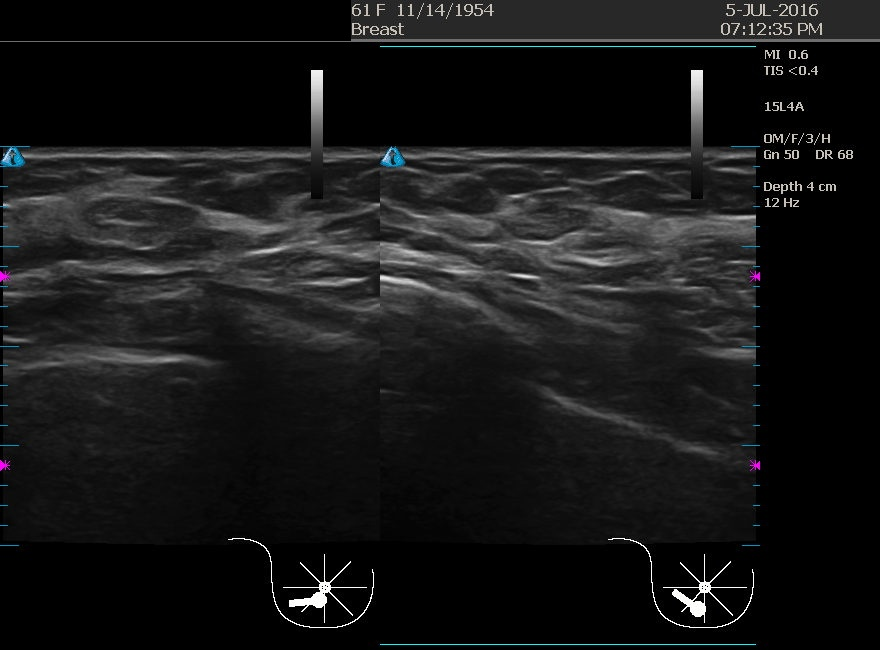BIRADS_3: (43, 171, 235, 363), (439, 157, 631, 349)
